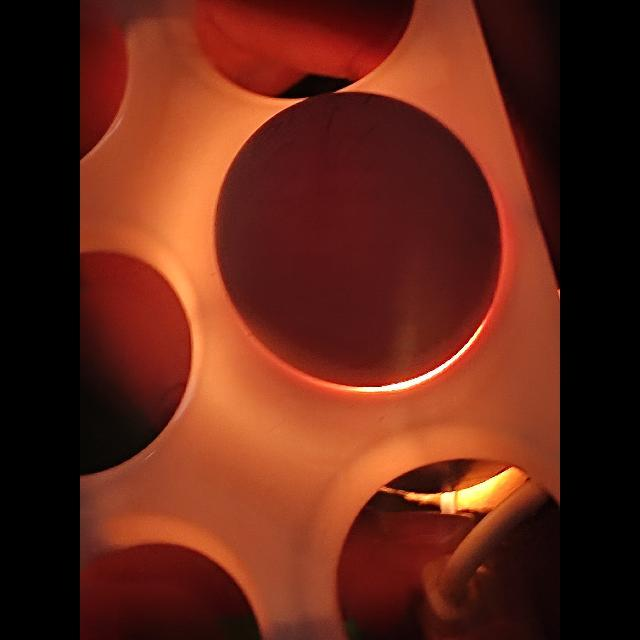Fertile: (213, 90, 503, 384)
